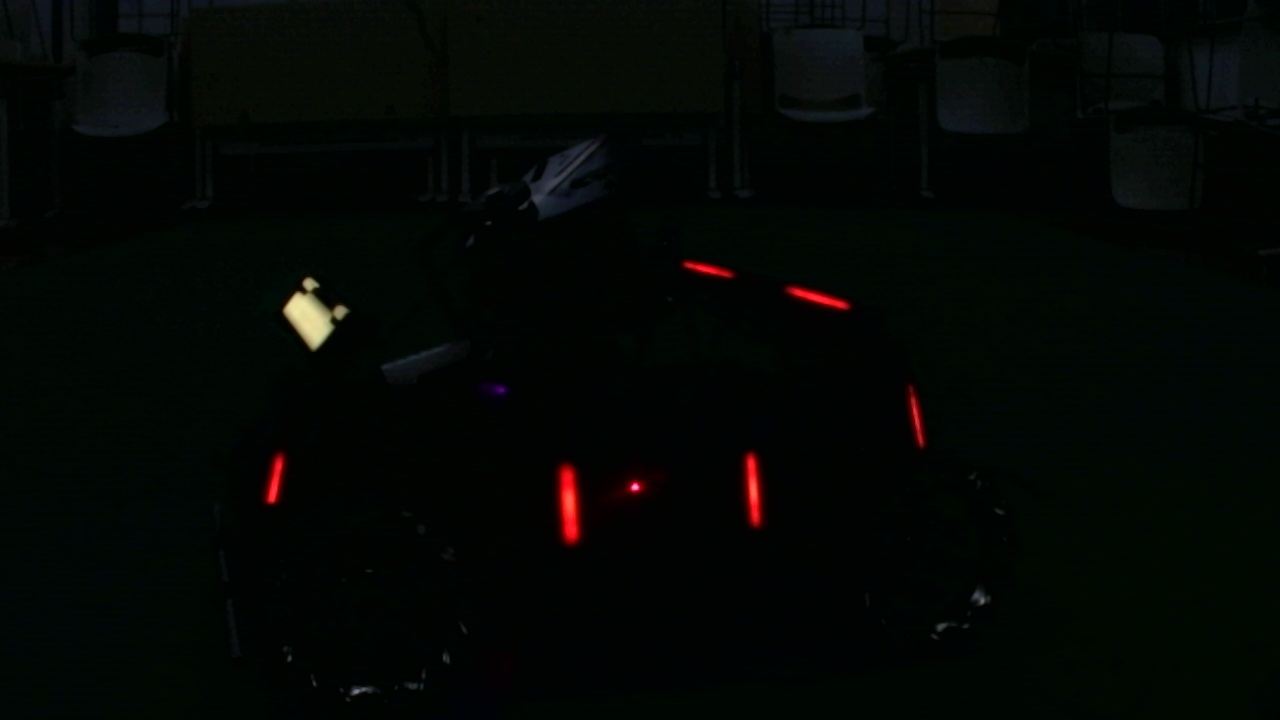lamp: (553, 460, 580, 547), (743, 452, 767, 529), (269, 450, 286, 508)
notpair1: (266, 460, 579, 548), (743, 378, 928, 526)
pair1: (556, 451, 765, 542)
